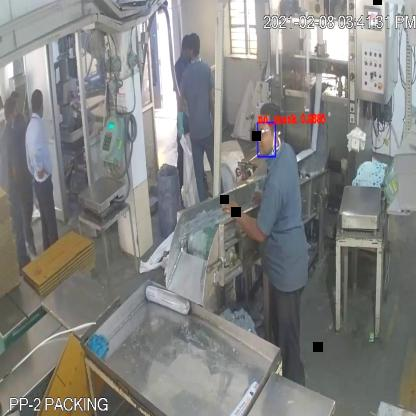no_glove: (221, 193, 268, 252)
